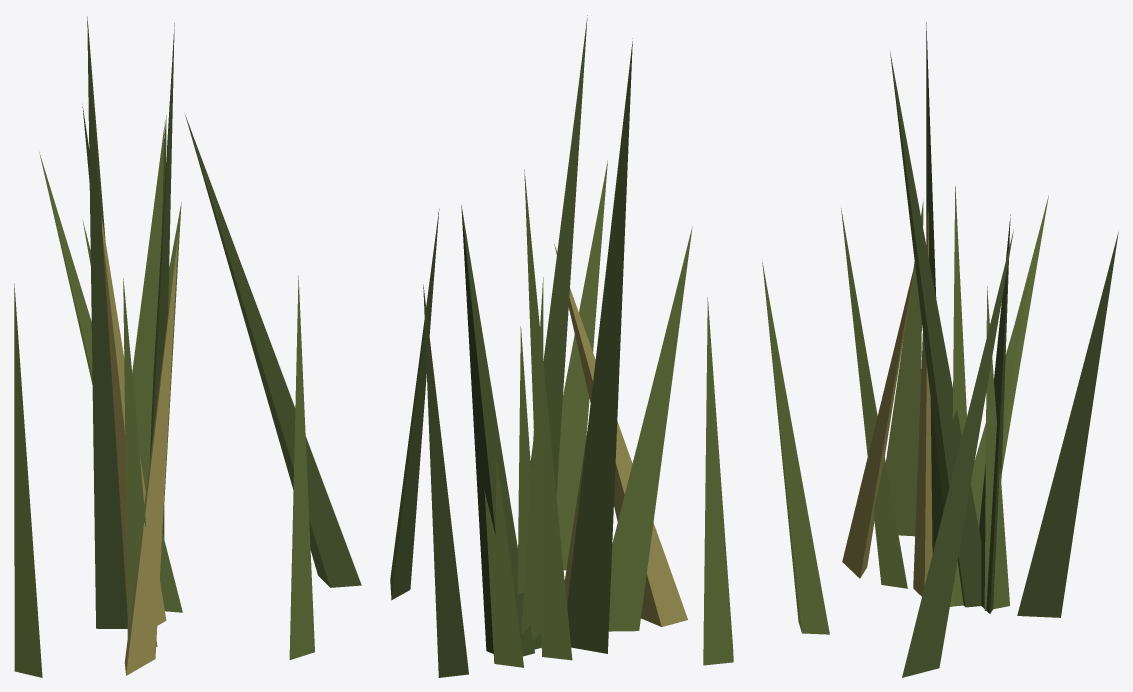
Rendered from Weeds_Tall.fbx.
3 views of the same model, side by side, from view 1: azimuth 30°, elevation 25°; view 2: azimuth 150°, elevation 25°; view 3: azimuth 270°, elevation 25° (orthographic). The views are drawn at different scales.
Parts seen in each view (by area): view 1: Weeds_Tall; view 2: Weeds_Tall; view 3: Weeds_Tall.
Boxes of the visible parts, left/top/right/bottom form: Weeds_Tall: left=14, top=16, right=361, bottom=677; Weeds_Tall: left=390, top=15, right=733, bottom=677; Weeds_Tall: left=762, top=22, right=1118, bottom=677.
Bounding box in the file's own units: 0.7259 × 1.24 × 0.7296.
